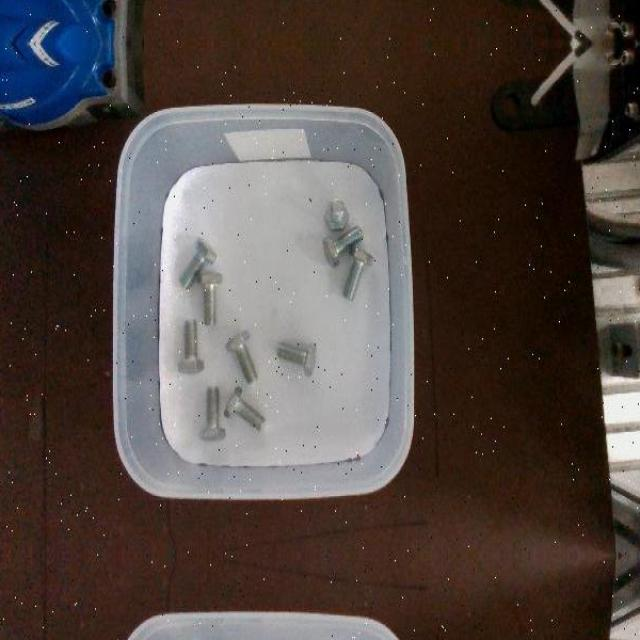screw: (178, 236, 218, 291), (224, 385, 266, 430), (342, 244, 374, 300), (225, 328, 258, 382), (322, 225, 364, 266), (178, 319, 205, 374), (277, 340, 317, 376), (200, 386, 225, 442), (198, 271, 224, 324), (325, 198, 349, 230)
